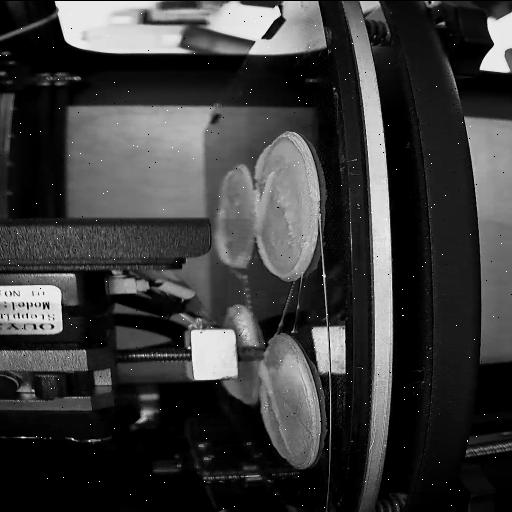over_extrusion: (258, 360, 290, 450), (254, 234, 312, 276), (214, 212, 246, 268), (256, 144, 276, 232)
